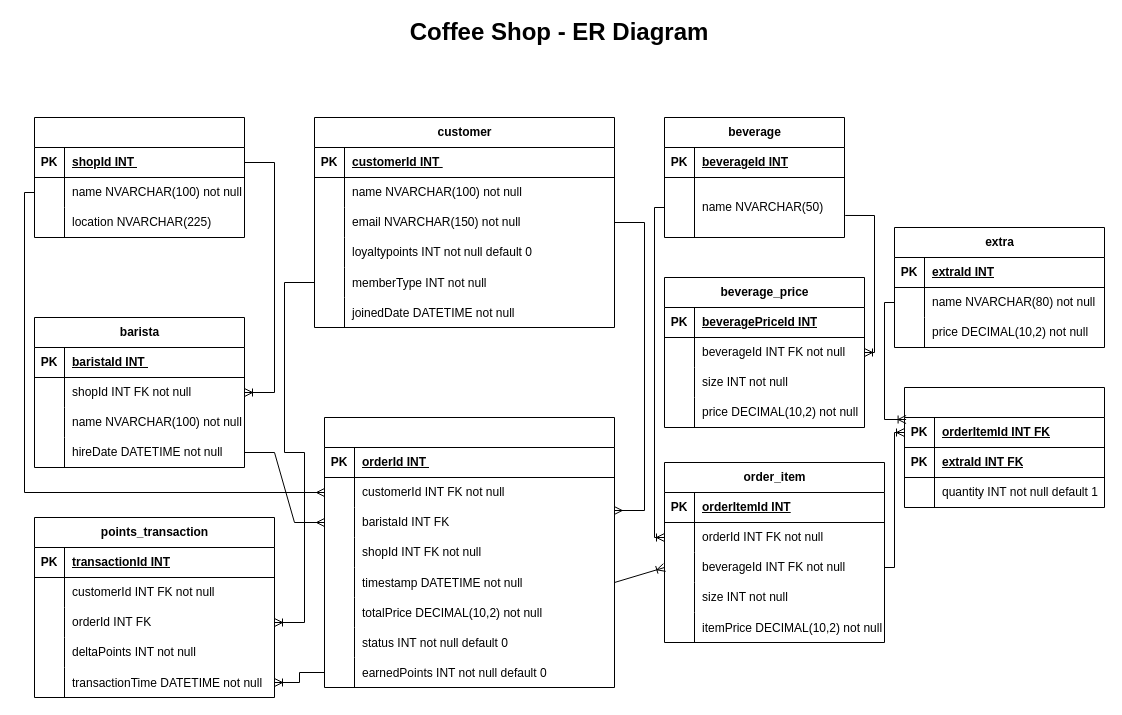
The diagram is 1122 pixels wide and 715 high, and some of its shapes have lost their labels. The shapes that lost their labels are listed below. From the top down, each one's box as (x1, y1, x2, y2) in pixels, then its label:
(34, 116, 244, 238): coffee_shop
(904, 386, 1104, 508): order_item_extra
(324, 416, 614, 688): orders
